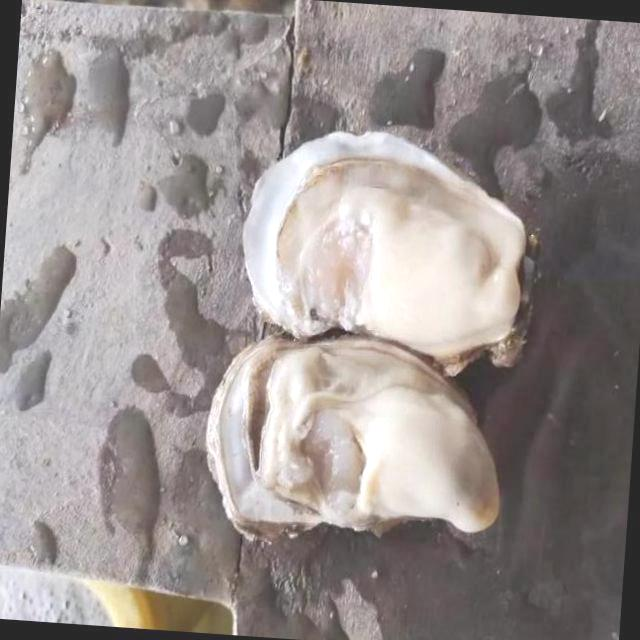Oyster-Open: (240, 130, 532, 370), (206, 332, 500, 544)
